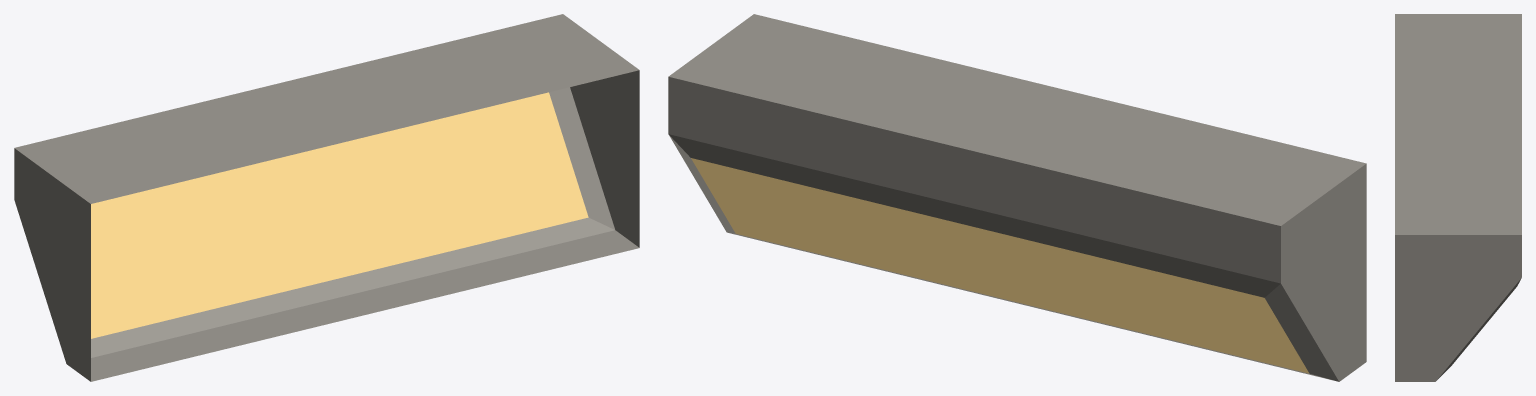
File: SM_Lamp_03.FBX
The picture shows the model from 3 angles, left to right: view 1: azimuth 30°, elevation 25°; view 2: azimuth 150°, elevation 25°; view 3: azimuth 270°, elevation 25°; orthographic projection. The views are drawn at different scales.
Parts seen in each view (by area): view 1: SM_Lamp_03; view 2: SM_Lamp_03; view 3: SM_Lamp_03.
Part boxes in pixels (left/top/right/bottom): SM_Lamp_03: left=14, top=14, right=639, bottom=381; SM_Lamp_03: left=668, top=14, right=1366, bottom=381; SM_Lamp_03: left=1395, top=14, right=1521, bottom=381.
Bounding box in the file's own units: 138 × 33.3 × 42.59.
